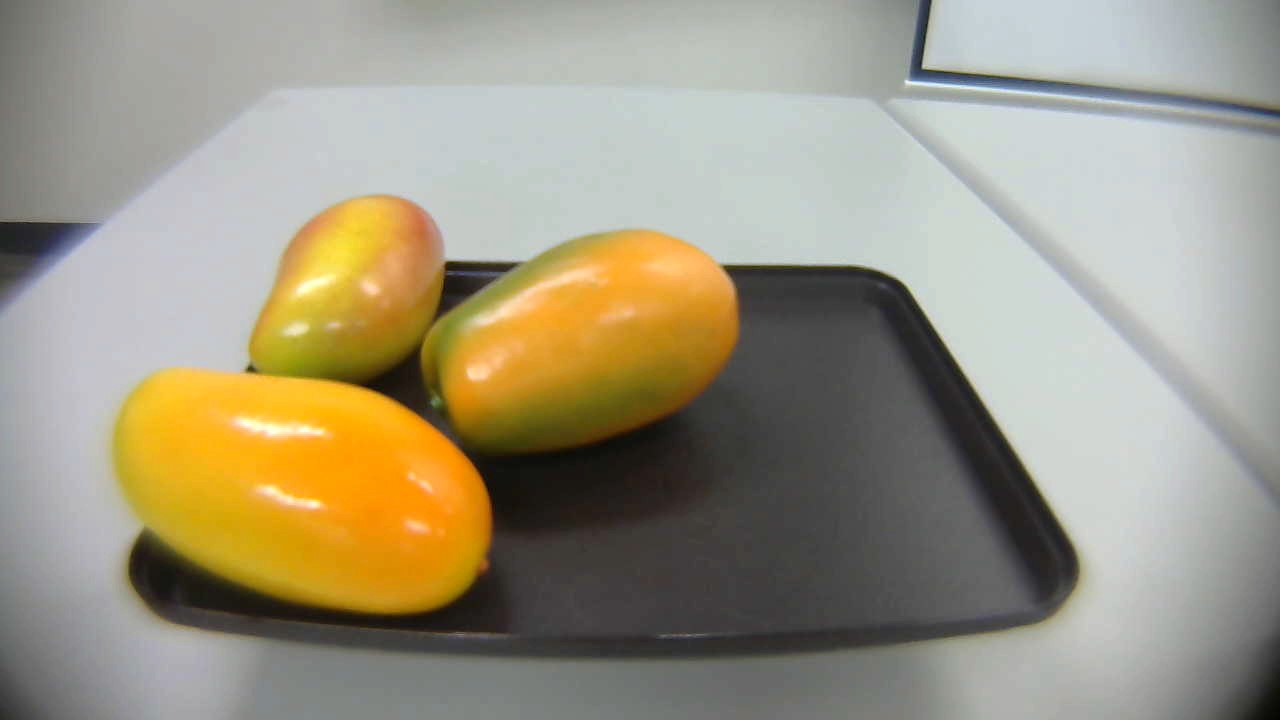papya: (412, 221, 757, 464)
red mango: (243, 193, 446, 390)
yellow mango: (109, 358, 497, 627)
